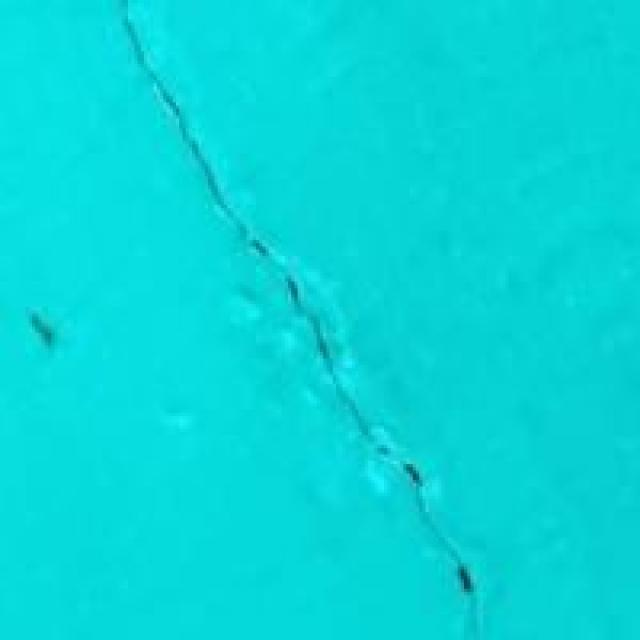crack: (115, 10, 477, 576)
